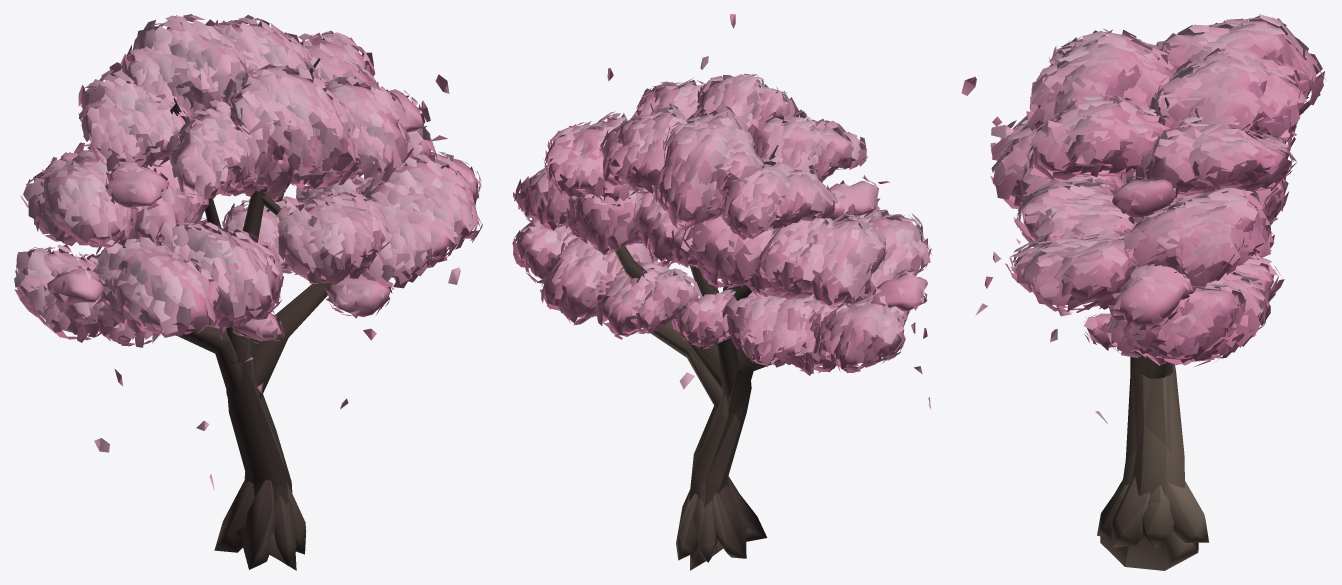
Rendered from sakura.glb.
3 renders of one model, left to right at view 1: azimuth 30°, elevation 25°; view 2: azimuth 150°, elevation 25°; view 3: azimuth 270°, elevation 25°, orthographic. The views are drawn at different scales.
Parts seen in each view (by area): view 1: sakura; view 2: sakura; view 3: sakura.
Boxes of the visible parts, x1,y1,x2,y2 form: sakura: [14, 14, 482, 570]; sakura: [512, 14, 932, 570]; sakura: [961, 14, 1326, 570].
Bounding box in the file's own units: 6.79 × 7.75 × 4.93.
